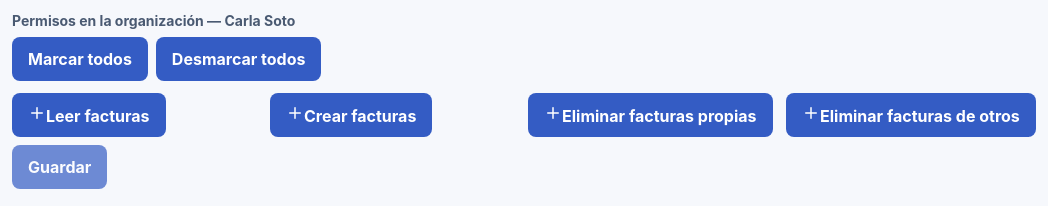
Test: MemberPermissionsEditor, saved mode › keeps the draft and says why when saving fails
Click the button "Leer facturas" at (89, 115), box [12,93,166,137]
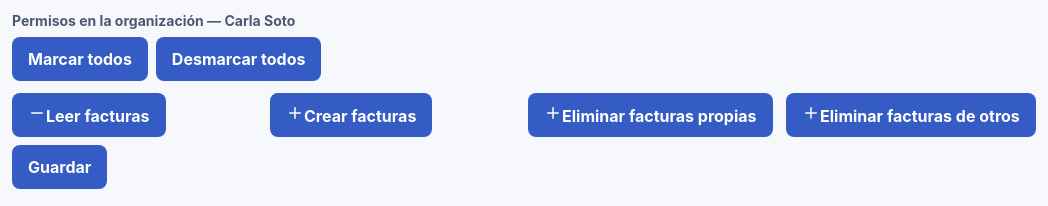
Click the button with aria-label "Guardar permisos de Carla Soto" at (60, 167), box [12,145,107,189]
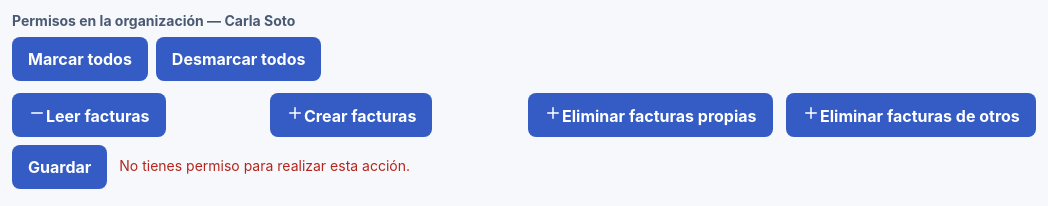
Check: the button with aria-label "Guardar permisos de Carla Soto" is enabled, box [12,145,107,189]
Check: the text "No tienes permiso para realizar esta acción." is shown, box [119,157,410,177]
